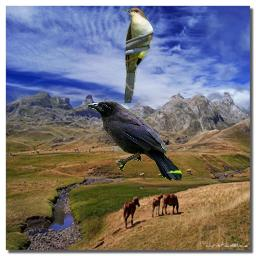Crow: (87, 100, 183, 181)
Cuckoo: (122, 7, 154, 103)
